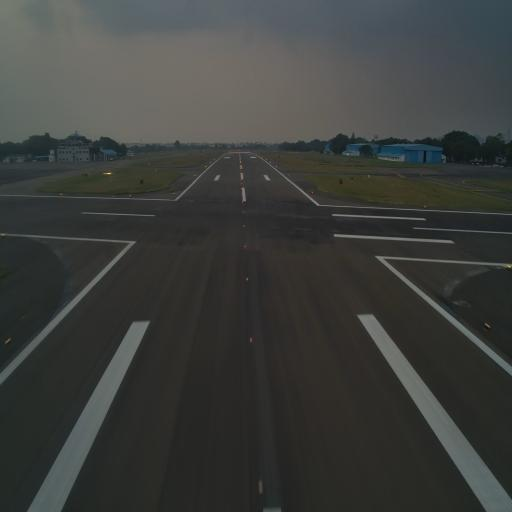on: (256, 478, 265, 496), (482, 318, 492, 334), (2, 333, 12, 348), (506, 264, 512, 272), (248, 337, 252, 344), (242, 223, 246, 230), (1, 232, 5, 238), (128, 194, 132, 200), (245, 277, 249, 282), (60, 191, 63, 197), (423, 203, 426, 208), (244, 244, 246, 250), (242, 211, 244, 214)
